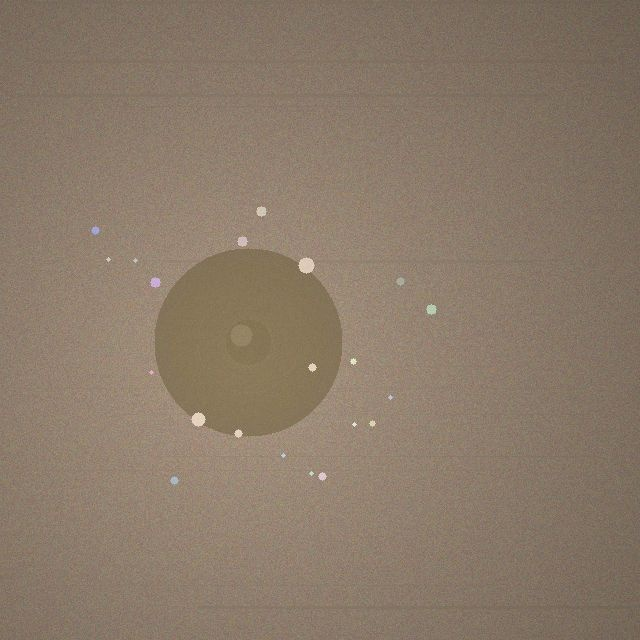overburn: (154, 248, 342, 436)
